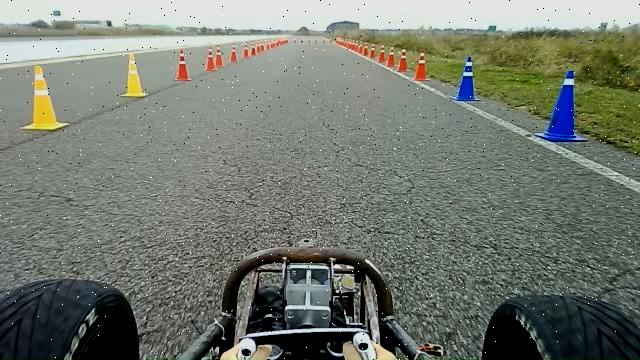blue cone: (535, 70, 589, 142), (451, 56, 482, 102)
red cone: (412, 48, 431, 82), (175, 48, 192, 81), (396, 47, 411, 72), (204, 45, 217, 71), (215, 44, 225, 68), (386, 45, 396, 68), (376, 44, 386, 64), (230, 43, 239, 63), (242, 42, 250, 58), (369, 43, 376, 59)
yellow cone: (20, 64, 70, 131), (120, 52, 149, 98)
